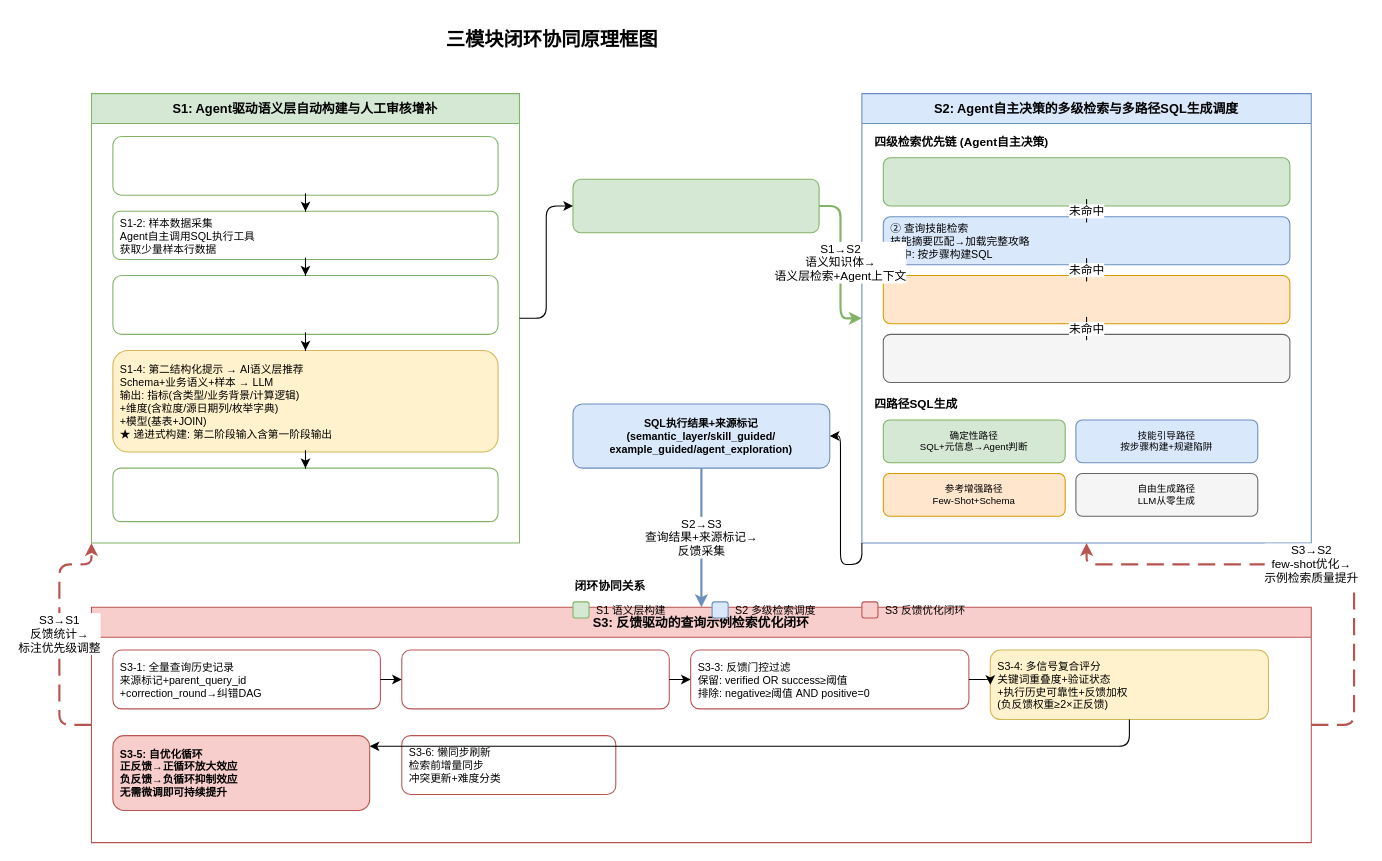
The diagram is 1382 pixels wide and 861 high, and some of its shapes have lost their labels. Here are the shapes that lost their labels. From the top down, the centre of each, then its label:
pixel 305 165: S1-1: Schema自动发现 查询INFORMATION_SCHEMA 获取表/列/FK元数据 构建Schema缓存
pixel 1086 181: ① 语义层检索 指标→维度→模型关联 命中: 返回确定性SQL+元信息
pixel 695 205: 完整语义知识体 Schema+语义标注+指标+维度+样本
pixel 305 304: S1-3: 第一结构化提示 → AI业务语义标注 表名+列名+外键+样本行 → LLM 输出: 表级描述+列级语义+域类型+域值枚举
pixel 1086 299: ③ 历史示例检索 反馈门控+多信号评分 命中: Few-Shot示例参考
pixel 1086 358: ④ Schema自动发现 表/列/FK/业务标注 从零生成SQL
pixel 305 494: S1-5: 三级生命周期管理 draft → confirmed/published Agent生成→人工审核→可修改/增补/删除→发布
pixel 535 679: S3-2: 结构化反馈采集 反馈类型(👍👎)+反馈分类 关联到具体SQL执行记录
